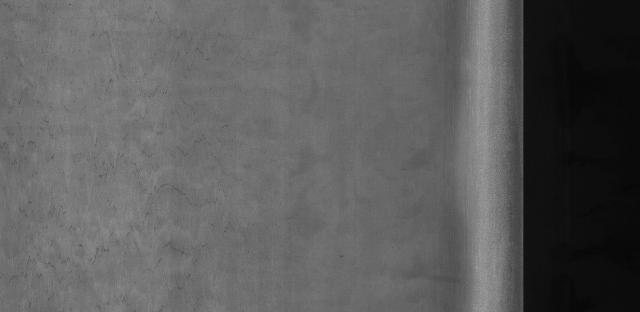silk_spot: (74, 163, 209, 270), (103, 76, 182, 136)
